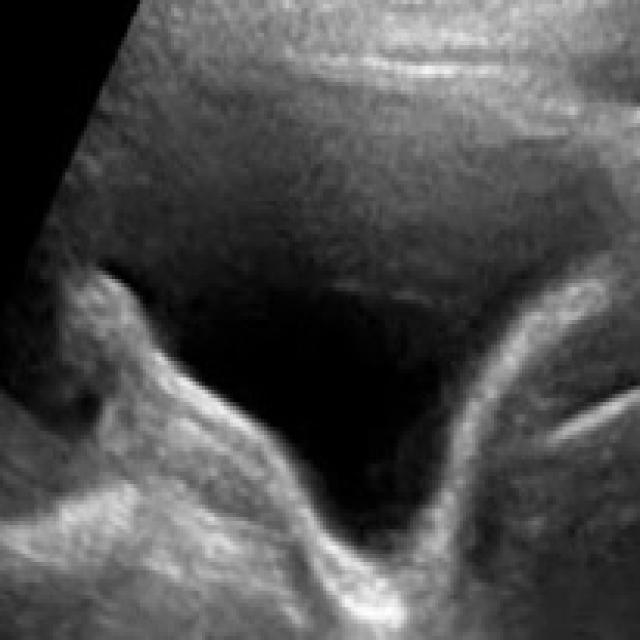bladder: (63, 21, 632, 620)
